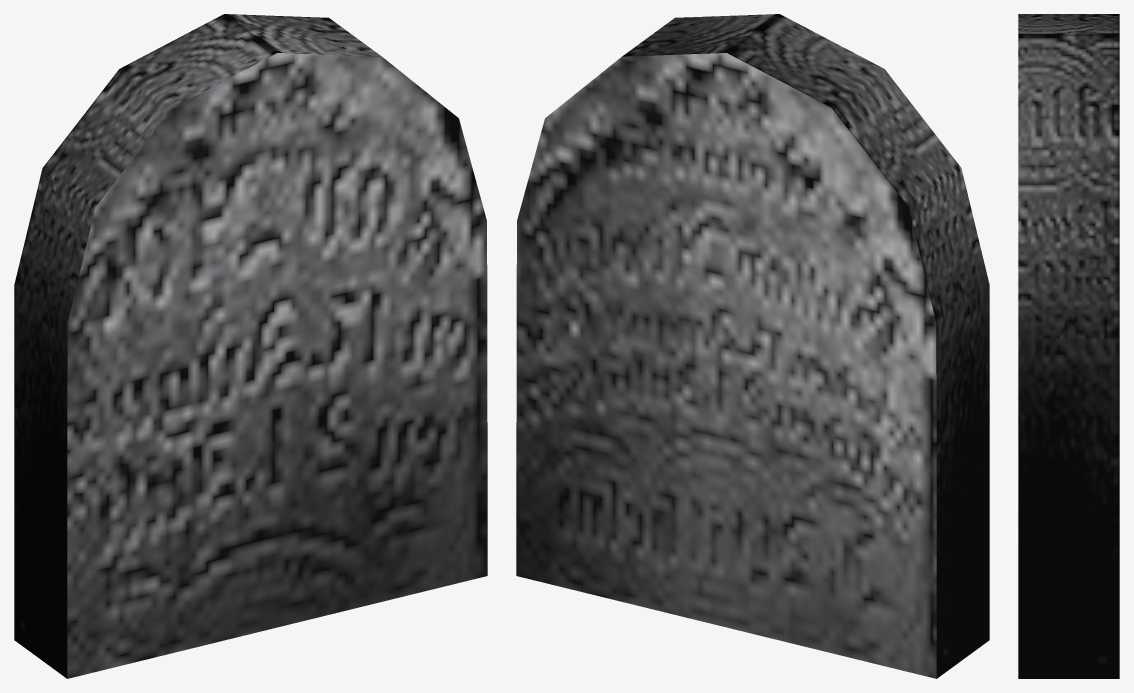
File: Tomb03.obj
3 renders of one model, left to right at view 1: azimuth 30°, elevation 25°; view 2: azimuth 150°, elevation 25°; view 3: azimuth 270°, elevation 25°, orthographic. The views are drawn at different scales.
Visible parts, largest first — view 1: Mesh_0; view 2: Mesh_0; view 3: Mesh_0.
Boxes of the visible parts, <box> form: Mesh_0: <box>14,14,487,678</box>; Mesh_0: <box>516,14,989,678</box>; Mesh_0: <box>1018,14,1119,678</box>.
Bounding box in the file's own units: 0.8976 × 1.17 × 0.1964.
Materials: 1 (1 with a texture image).
